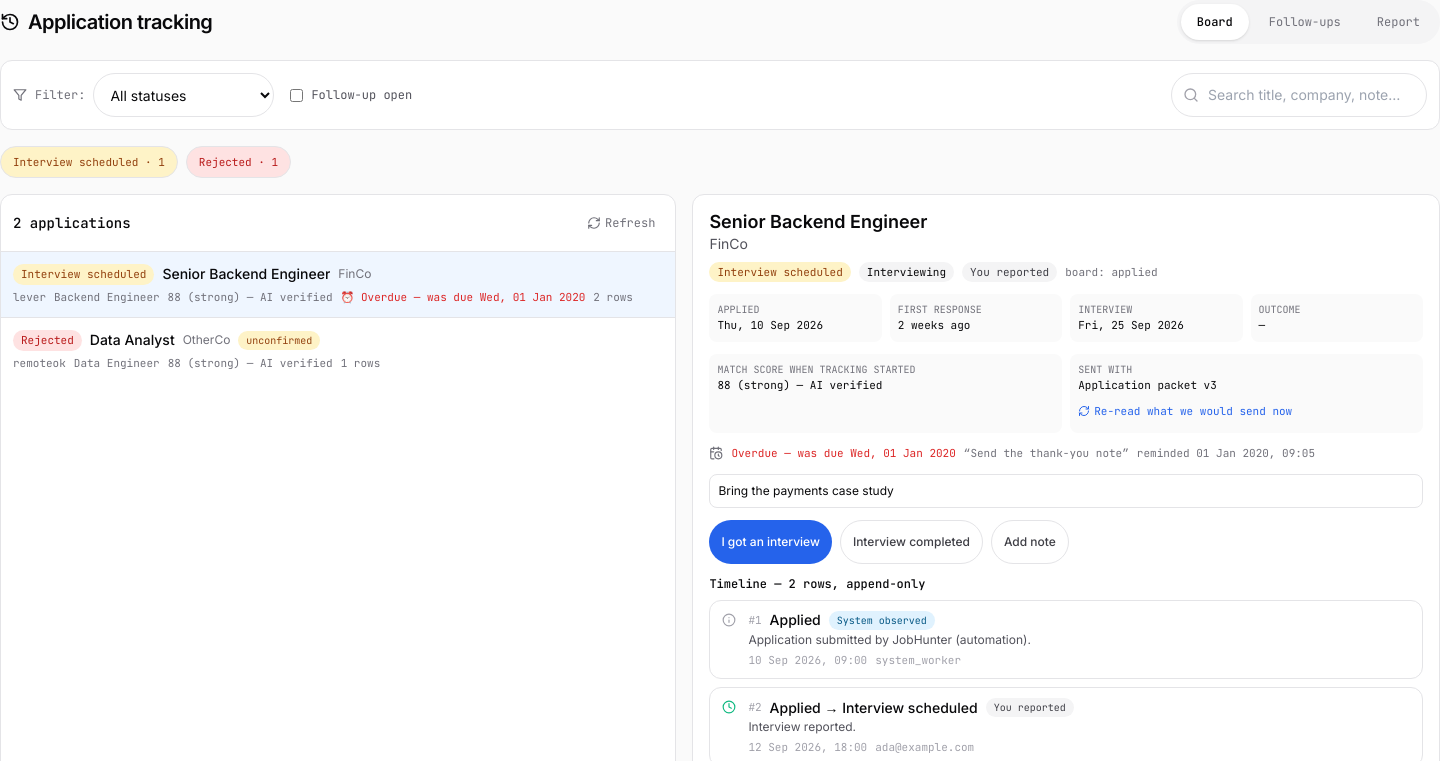
Test: Tracking board › records an interview from the board and re-reads the list
Step 1. Click the button with test id "action-interview" → [771, 542], box [709,520,832,564]
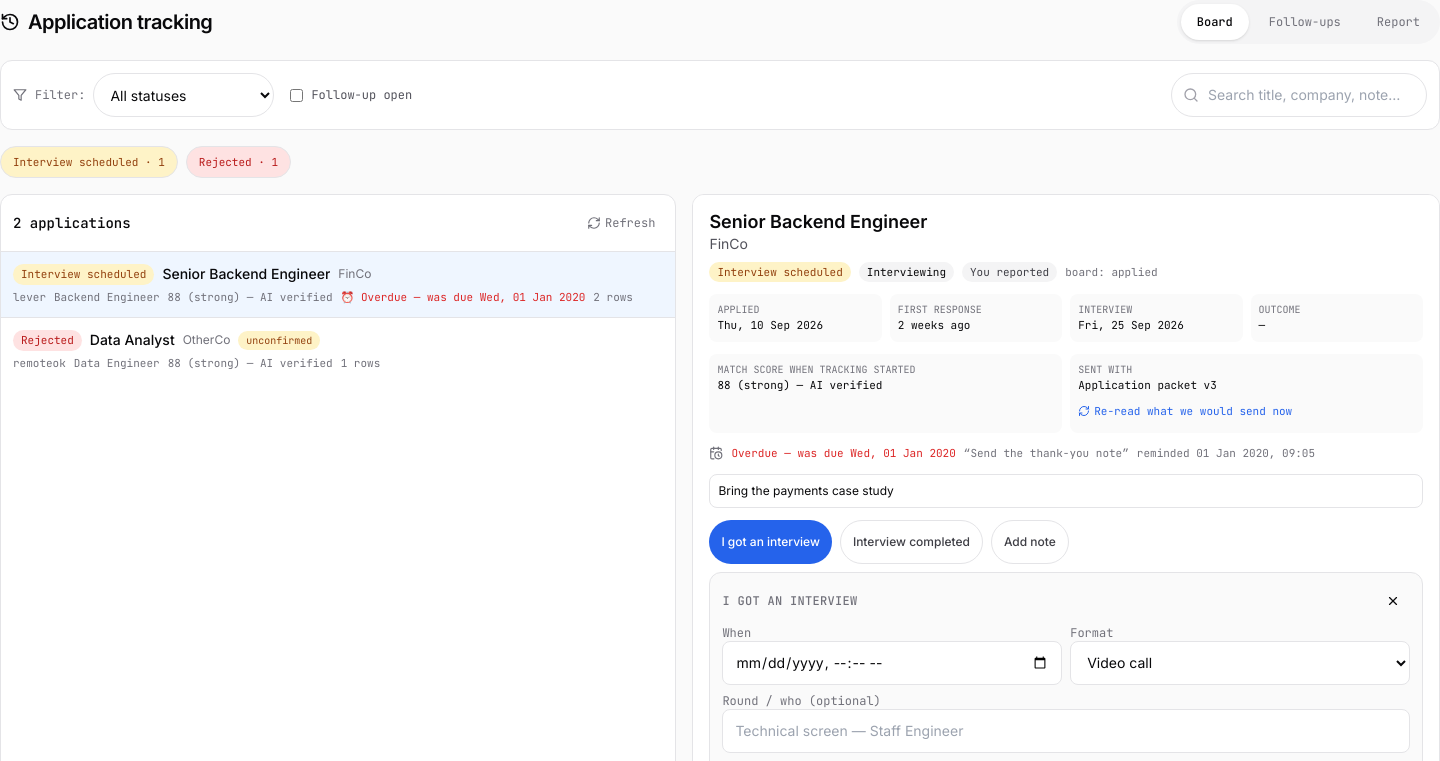
Step 2. Type "2026-09-25T14:00" into the field with test id "interview-at" → [892, 662], box [722,640,1062,684]
(page scrolled)
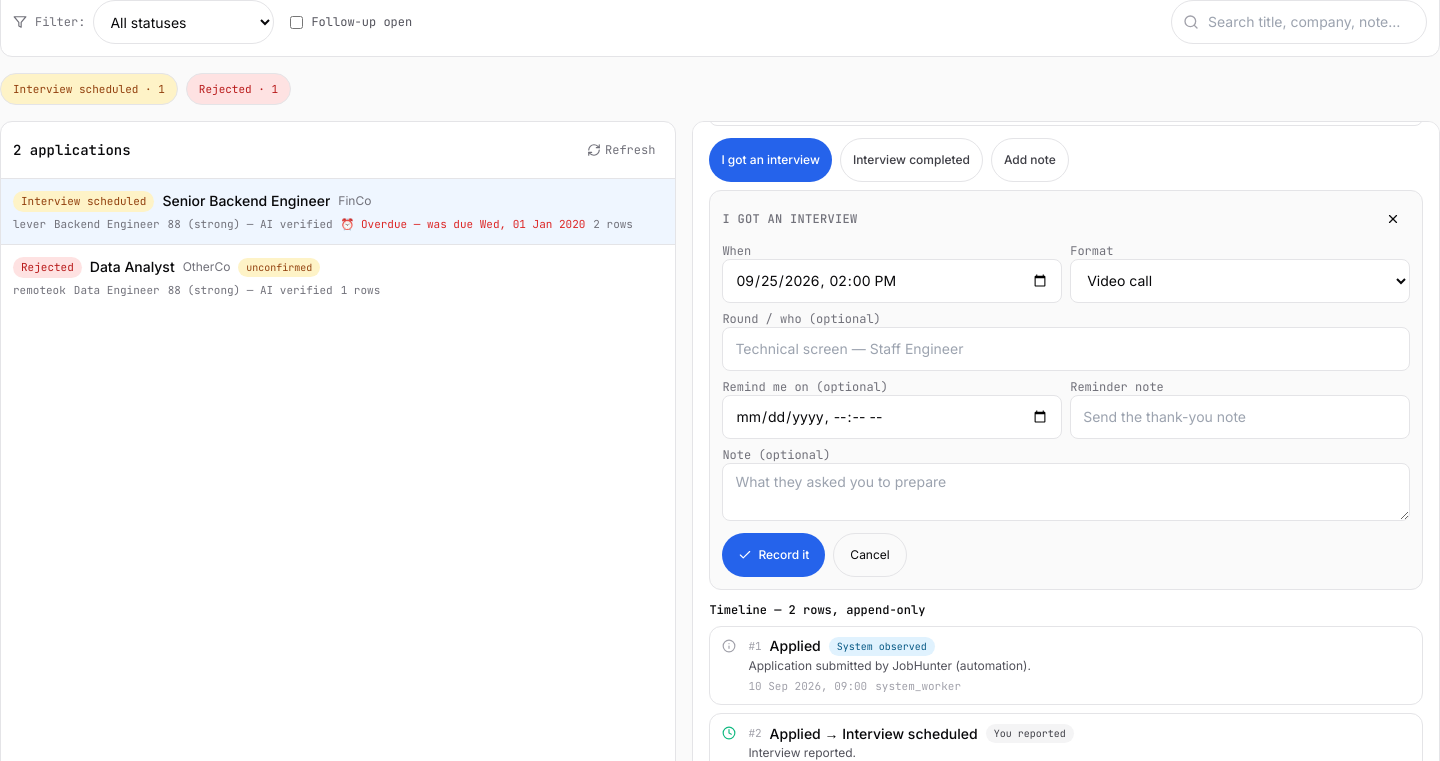
Step 3. Click the button with test id "form-submit" → [774, 554], box [722,532,825,576]
(page scrolled)
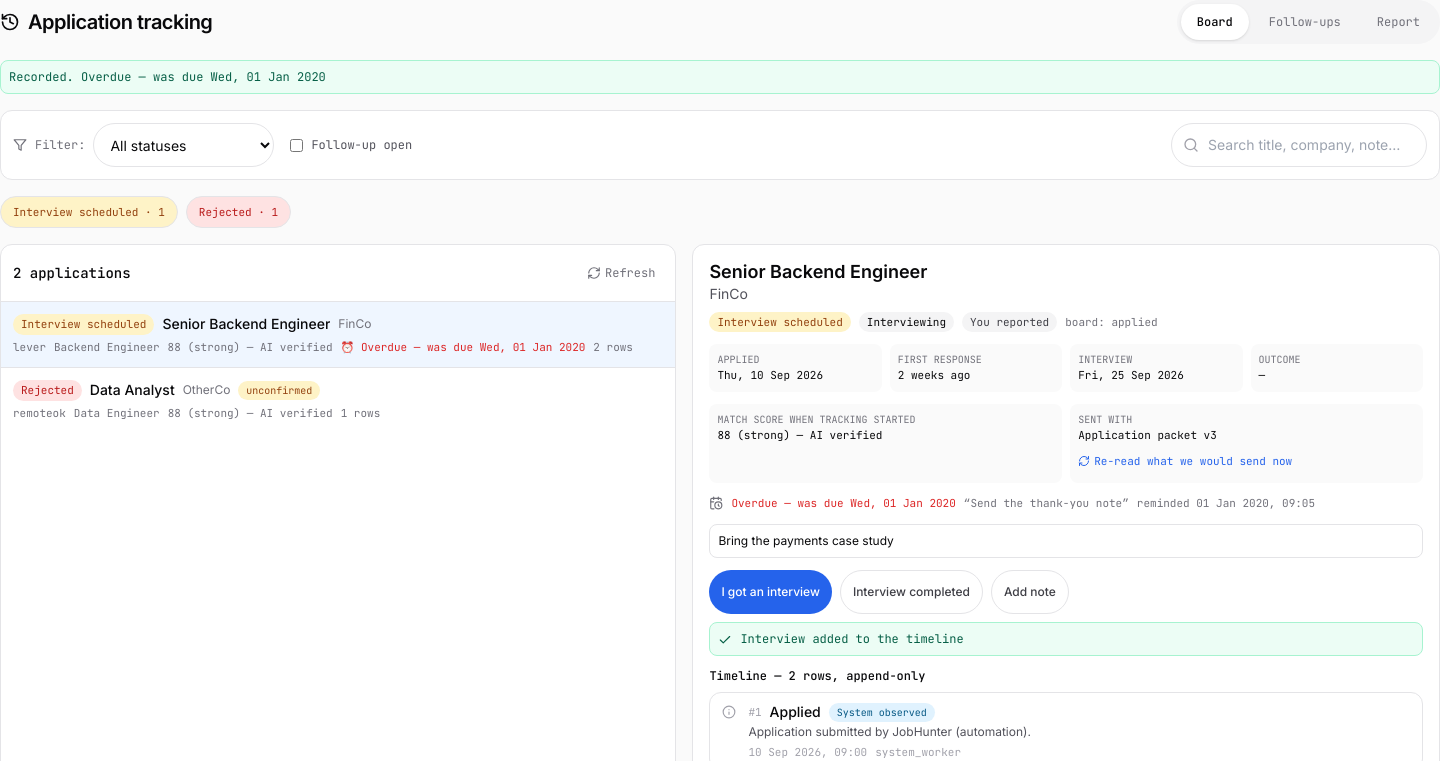
Expected: the message with test id "notice" reads "Recorded. Overdue — was due Wed, 01 Jan 2020", [9,69,326,85]
